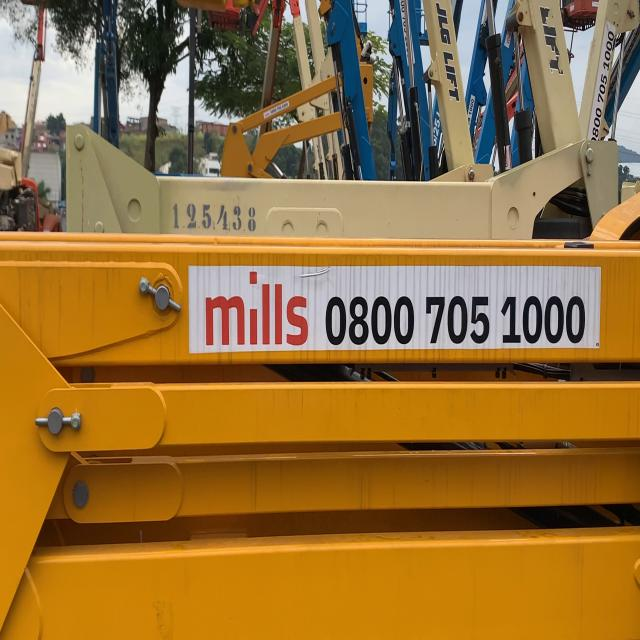Adesivo Longo: (187, 261, 603, 358)
